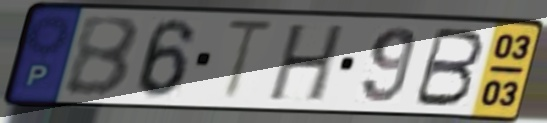6: (134, 16, 201, 102)
9: (358, 24, 419, 107)
B: (61, 14, 143, 100), (409, 25, 488, 110)
H: (264, 22, 350, 105)
T: (218, 16, 280, 105)
